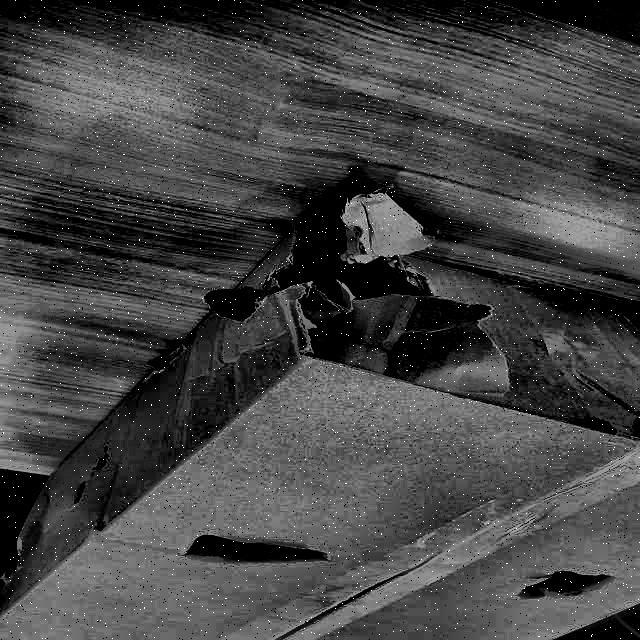box: (0, 183, 639, 640)
hole: (232, 179, 452, 373), (171, 526, 329, 571), (507, 563, 614, 605)
